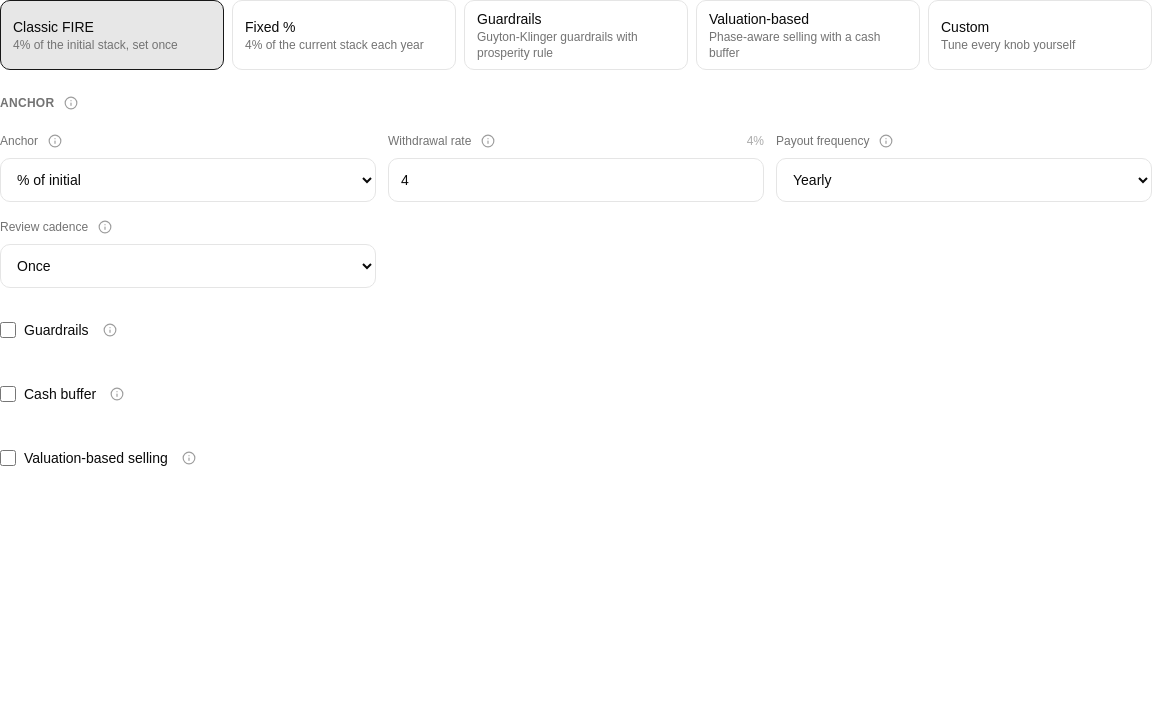
Test: WithdrawalTab › shows info buttons for sections and knobs with non-empty descriptions
The width and height of the screenshot is (1152, 720).
expect the button named "About Anchor" is shown: met, box [42,128,68,154]
expect the button named "About Valuation-based selling" is shown: met, box [176,445,202,471]
Click the button named "About Withdrawal rate".
click(488, 141)  # box [475,128,501,154]
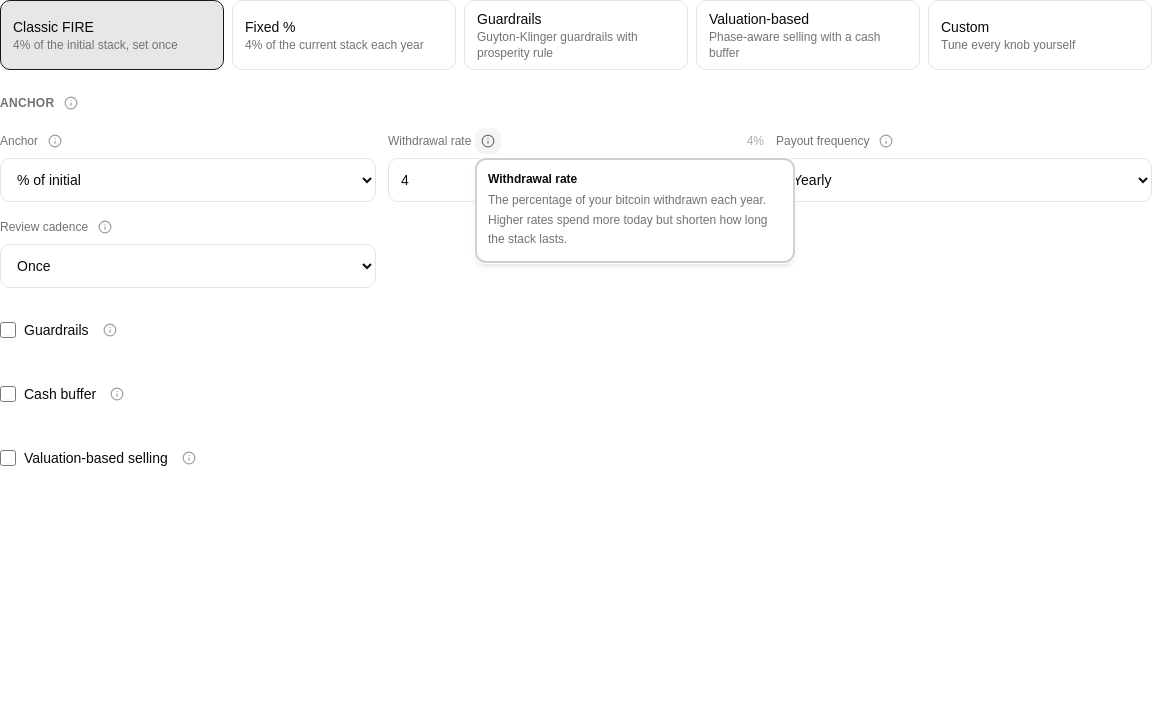
expect the text "percentage of your bitcoin" is shown: met, box [488,193,768,246]
